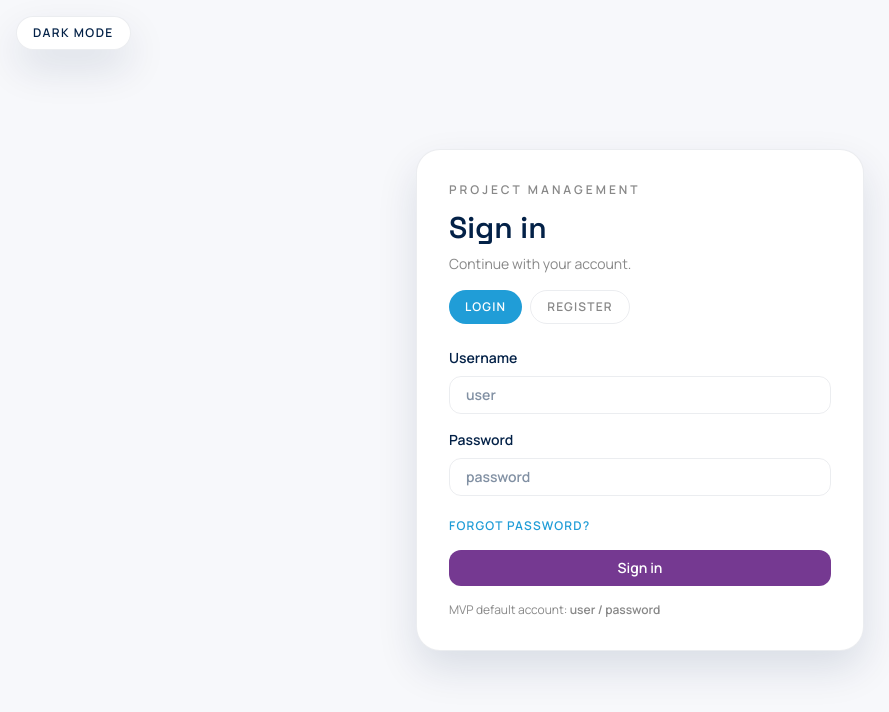
Test case: AuthGate › blocks invalid credentials
Type "bad" into the field labelled "Username". click: (640, 395)
box: [449,376,831,414]
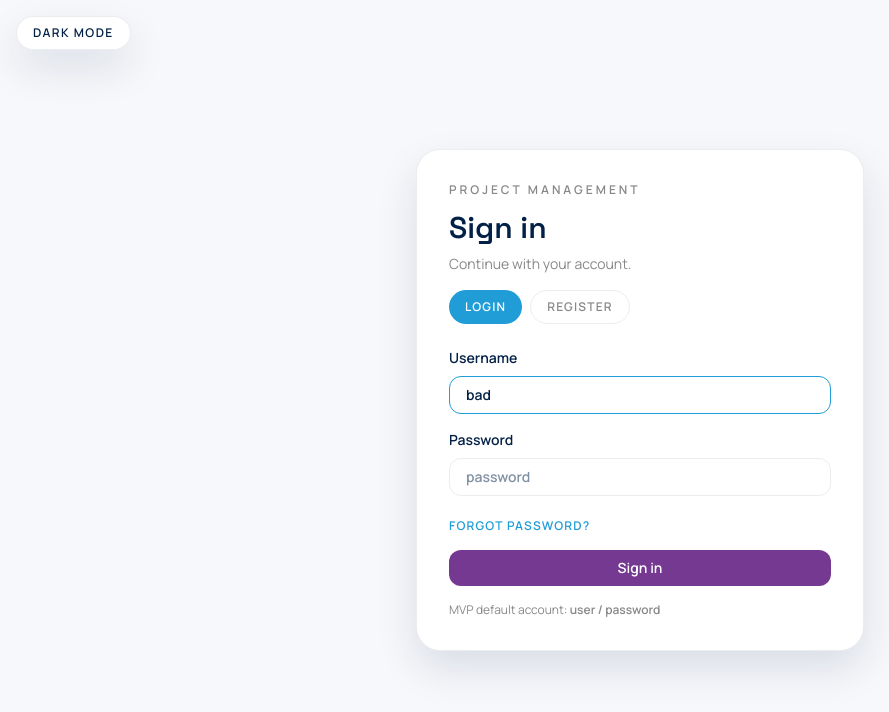
Type "creds" into the password field labelled "Password". click: (640, 477)
box: [449,458,831,496]
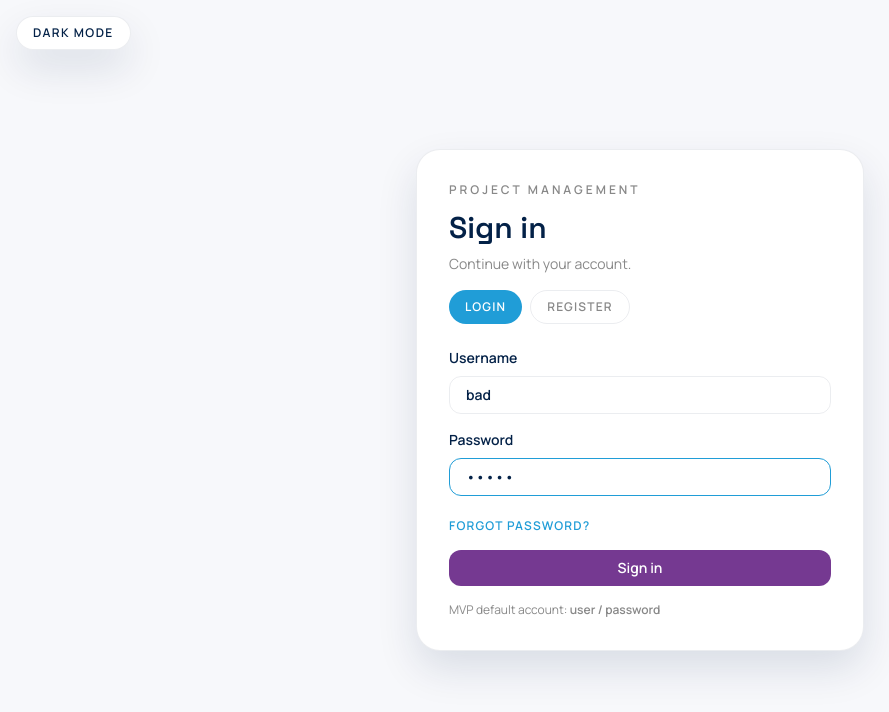
Click the button "Sign in". click: (640, 568)
box: [449,550,831,586]
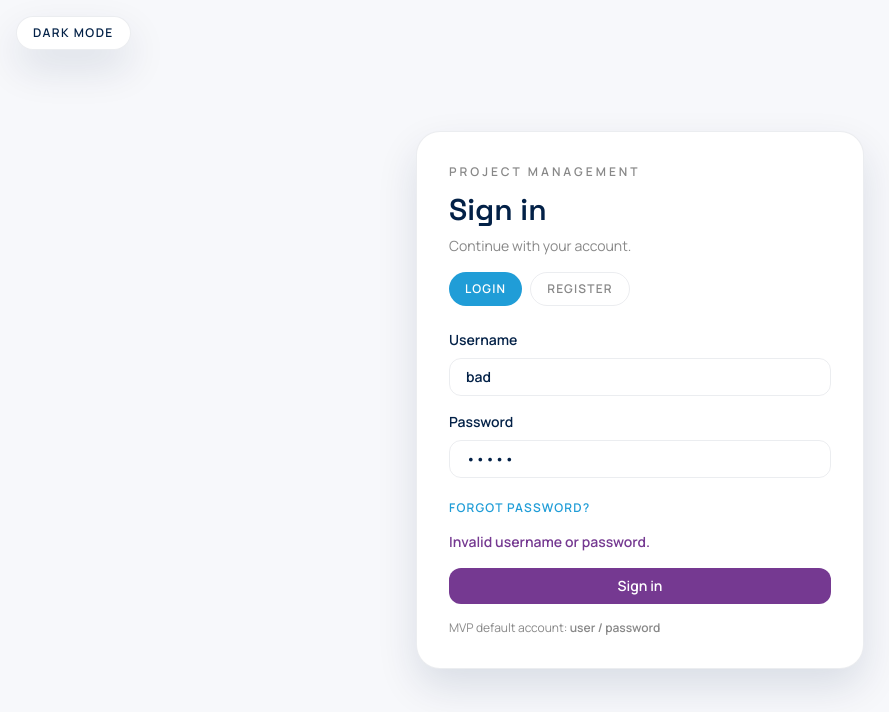
Expected: the text "Invalid username or password." is shown, [449,532,650,551]
